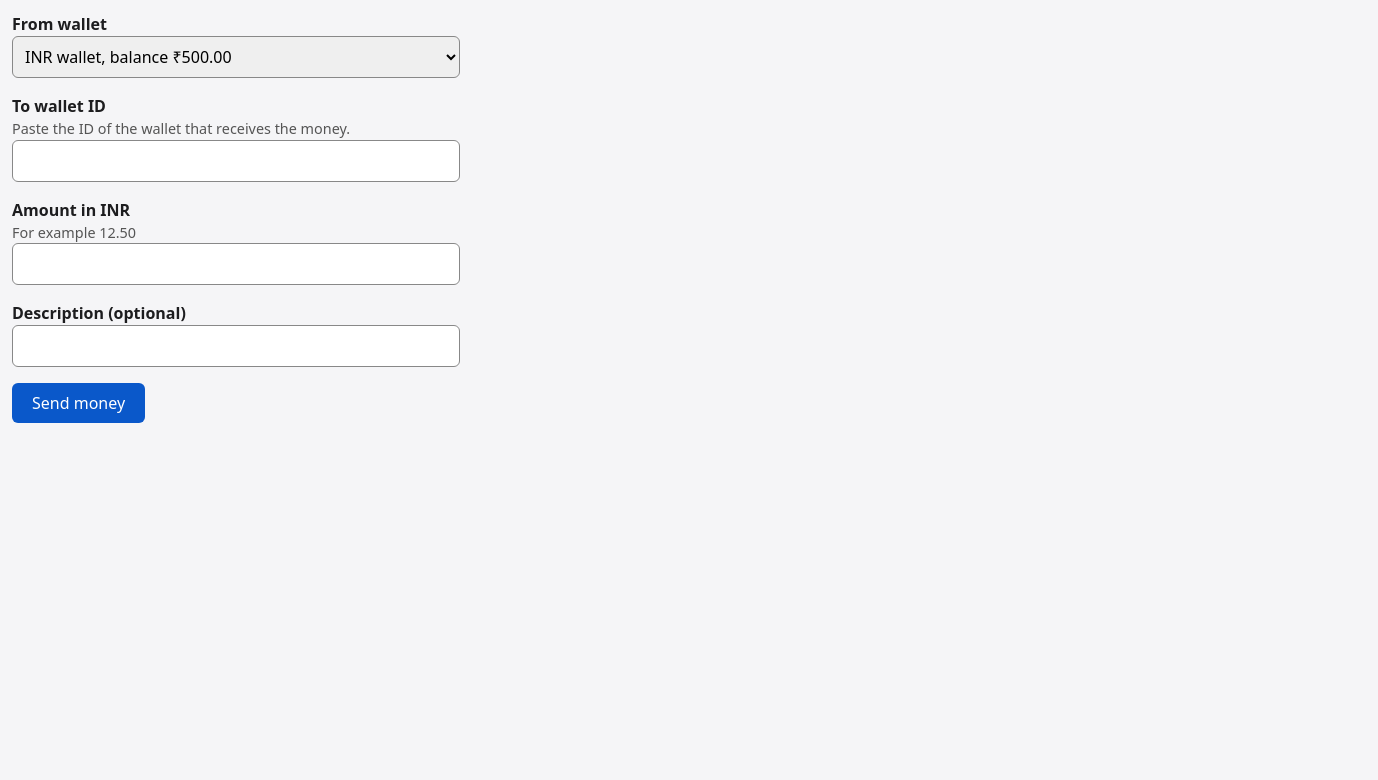
TransferForm › shows a general error that is not about one field, such as a frozen wallet
Step 1. Type "22222222-2222-4222-8222-222222222222" into the field labelled "To wallet ID" → [236, 161], box [12,140,460,182]
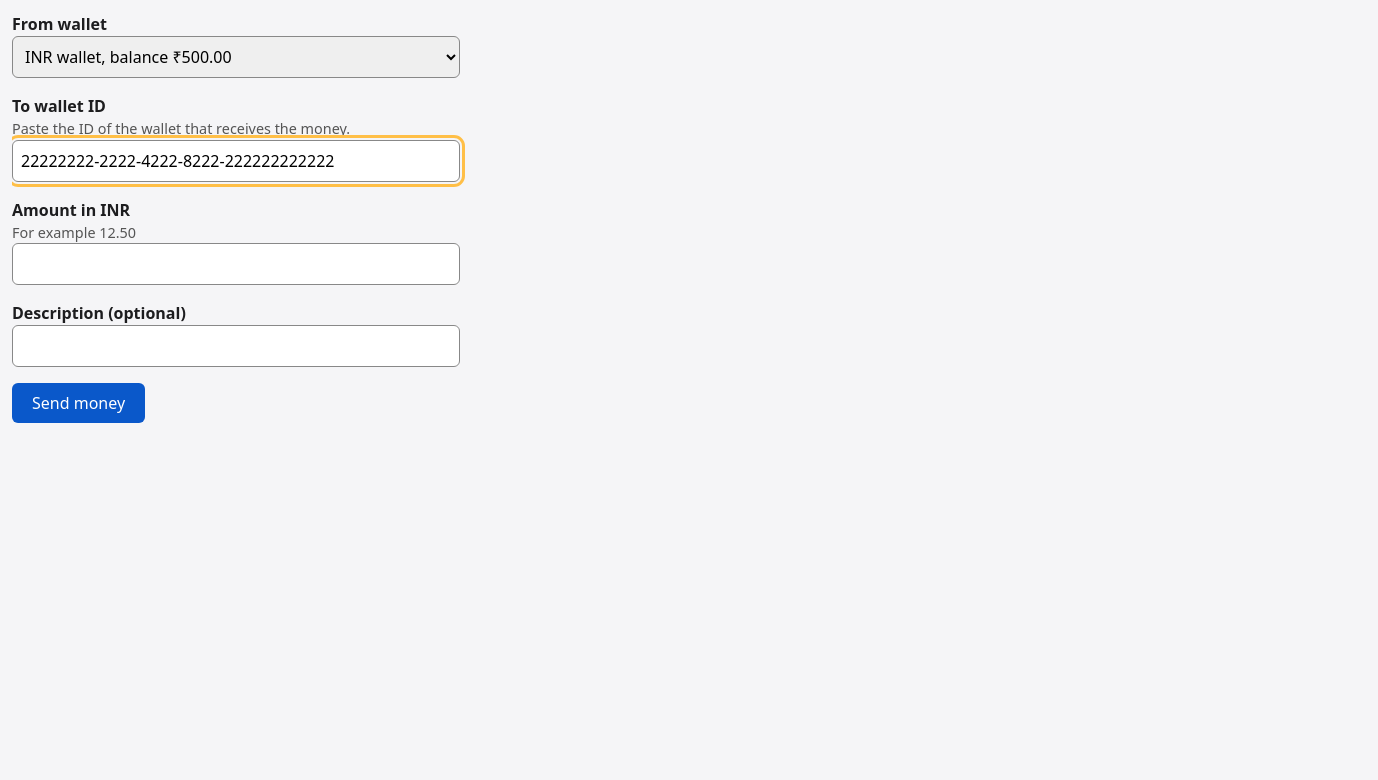
Step 2. Type "12.50" into the field labelled "Amount in INR" → [236, 264], box [12,243,460,285]
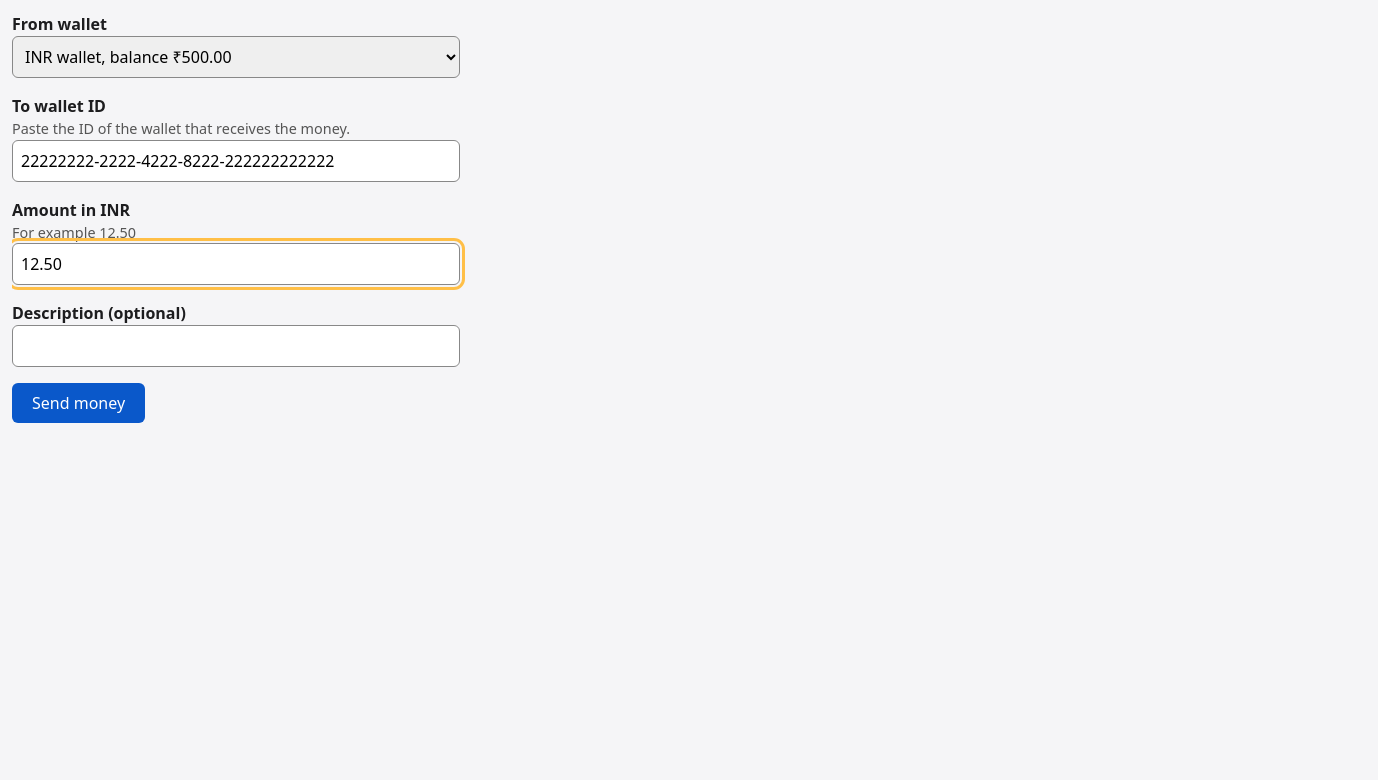
Step 3. Click the button "Send money" → [79, 403], box [12,383,145,423]
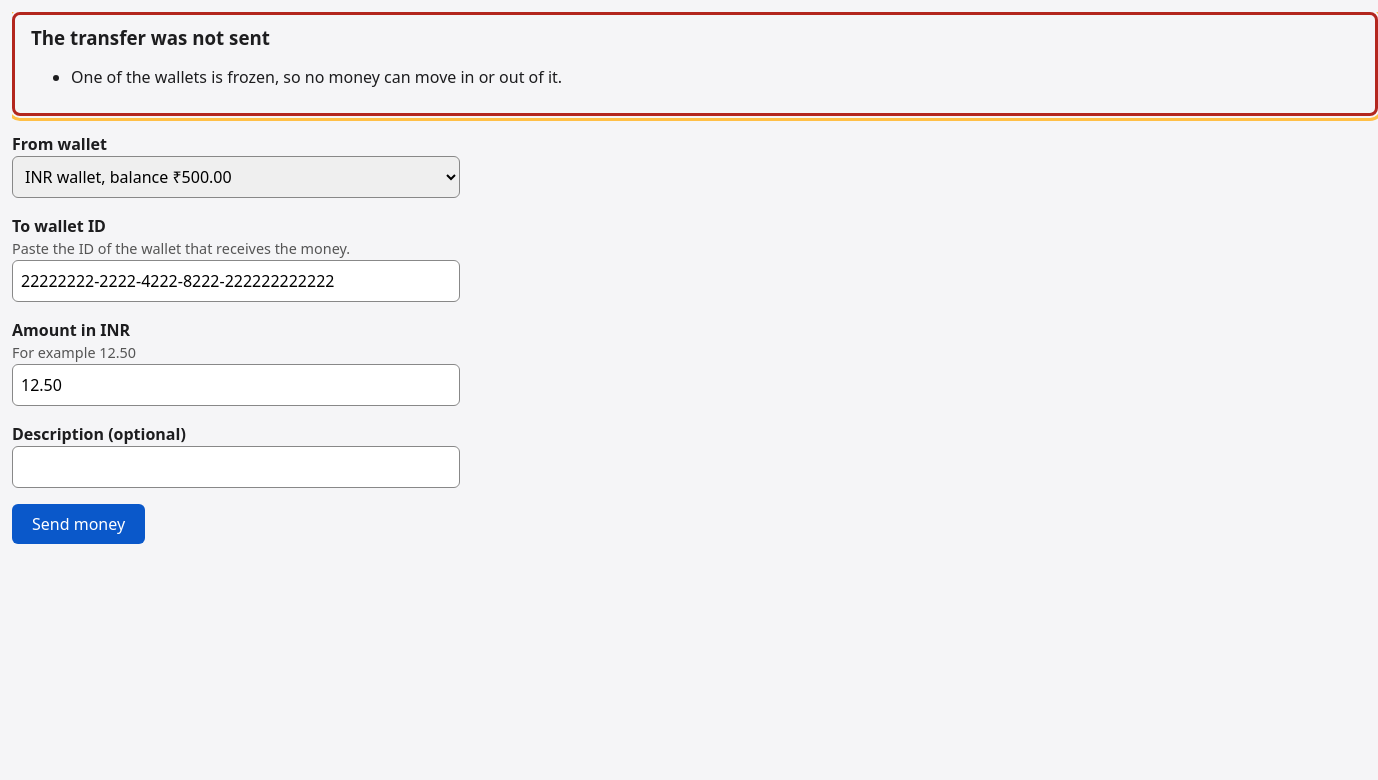
Now the message shows "One of the wallets is frozen, so no money can move in or out of it.", box [71,66,562,88]
